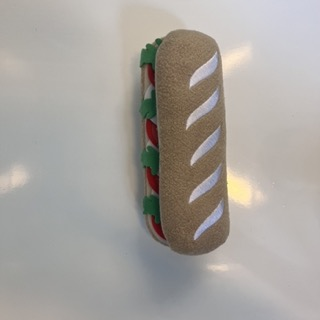sandwich: (139, 30, 230, 256)
